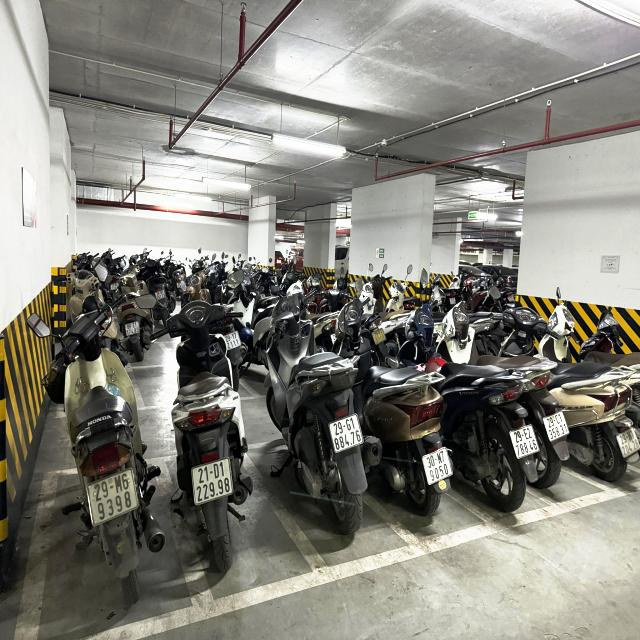license_plate: (84, 464, 143, 532), (189, 453, 237, 511), (327, 411, 368, 459), (507, 421, 543, 464), (421, 445, 456, 489), (542, 408, 573, 445), (615, 425, 640, 462), (222, 330, 244, 354), (371, 328, 389, 349), (125, 320, 142, 339), (154, 290, 168, 303)
